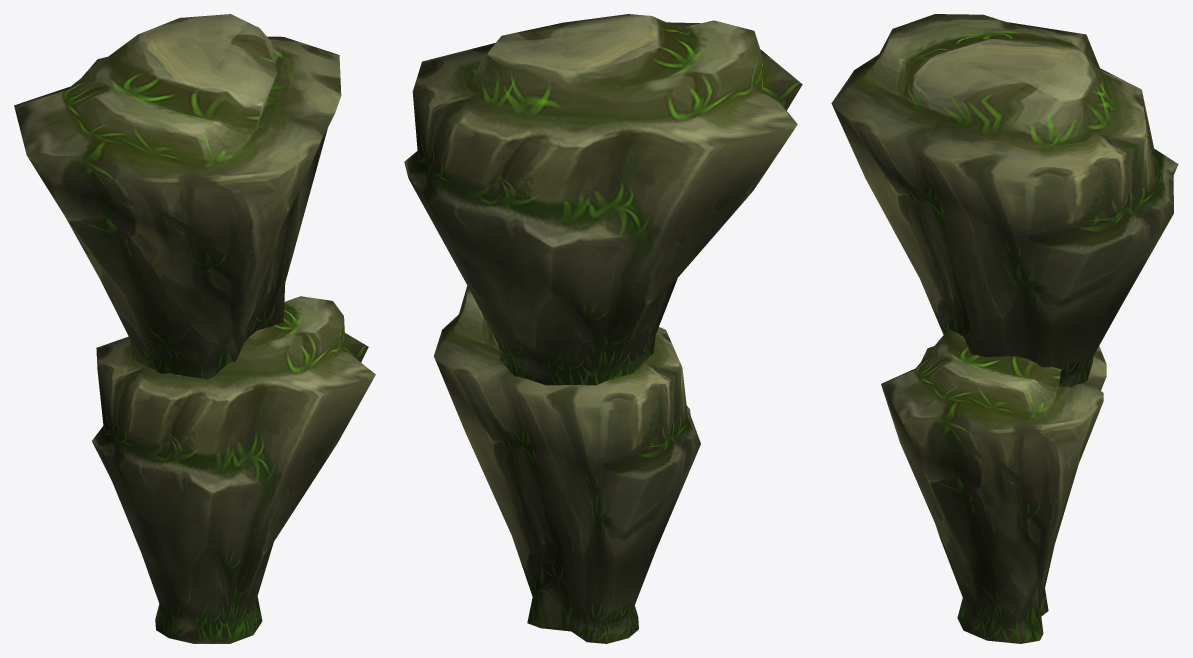
The model's file is Rock_Formation_02_08.fbx.
The picture shows the model from 3 angles, left to right: view 1: azimuth 30°, elevation 25°; view 2: azimuth 150°, elevation 25°; view 3: azimuth 270°, elevation 25°; orthographic projection. The views are drawn at different scales.
Visible parts, largest first — view 1: Rock_Formation_02_08; view 2: Rock_Formation_02_08; view 3: Rock_Formation_02_08.
Part boxes in pixels (left/top/right/bottom): Rock_Formation_02_08: left=14, top=14, right=375, bottom=643; Rock_Formation_02_08: left=404, top=14, right=802, bottom=643; Rock_Formation_02_08: left=831, top=14, right=1178, bottom=643.
Size of the model in its own units: 204 by 327 by 186.
